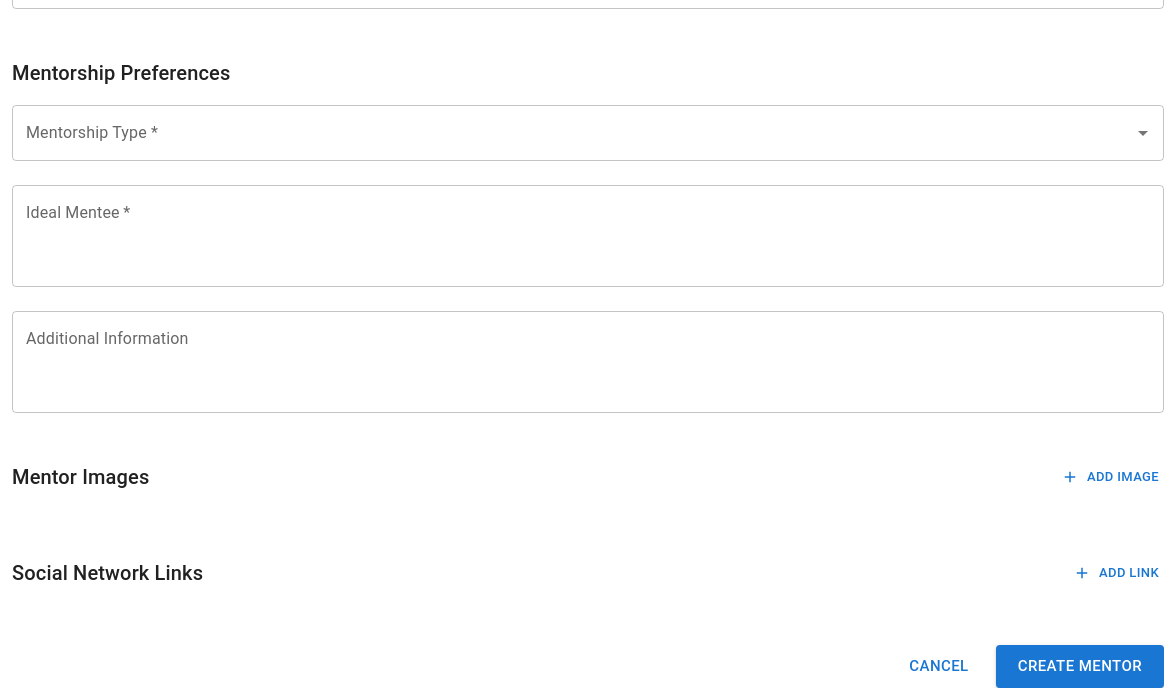
CreateMentorForm › does not submit form when Ideal Mentee is empty
The width and height of the screenshot is (1176, 688).
(page scrolled)
Click the button "Create Mentor".
click(1080, 667)  # box x1=996 y1=645 x2=1164 y2=687
(page scrolled)
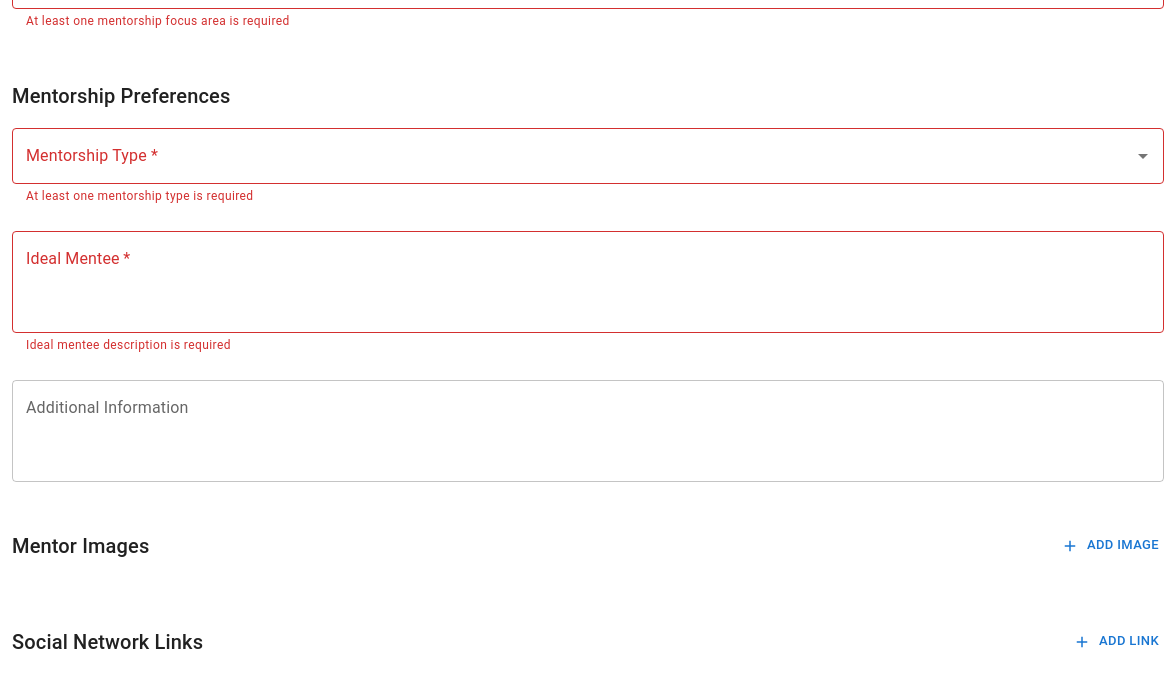
expect the text "Ideal mentee description is required" is shown: met, box x1=26 y1=338 x2=231 y2=352
